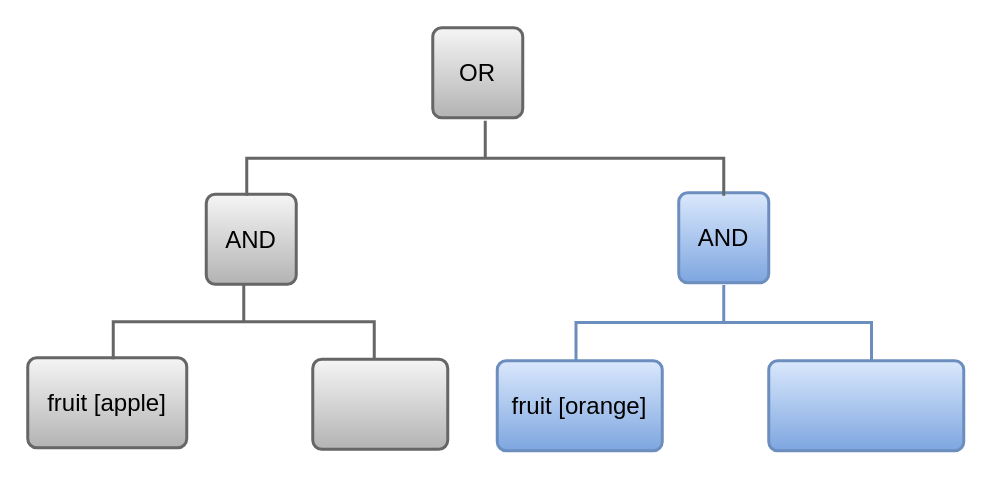
Some shapes in this 990 by 477 pixel diagram are drawn without their labels. Here are the shapes that lost their labels. From the top down, the centre of each, then its label:
[379,403]: city [NY]
[865,405]: city [Seattle, LA]
